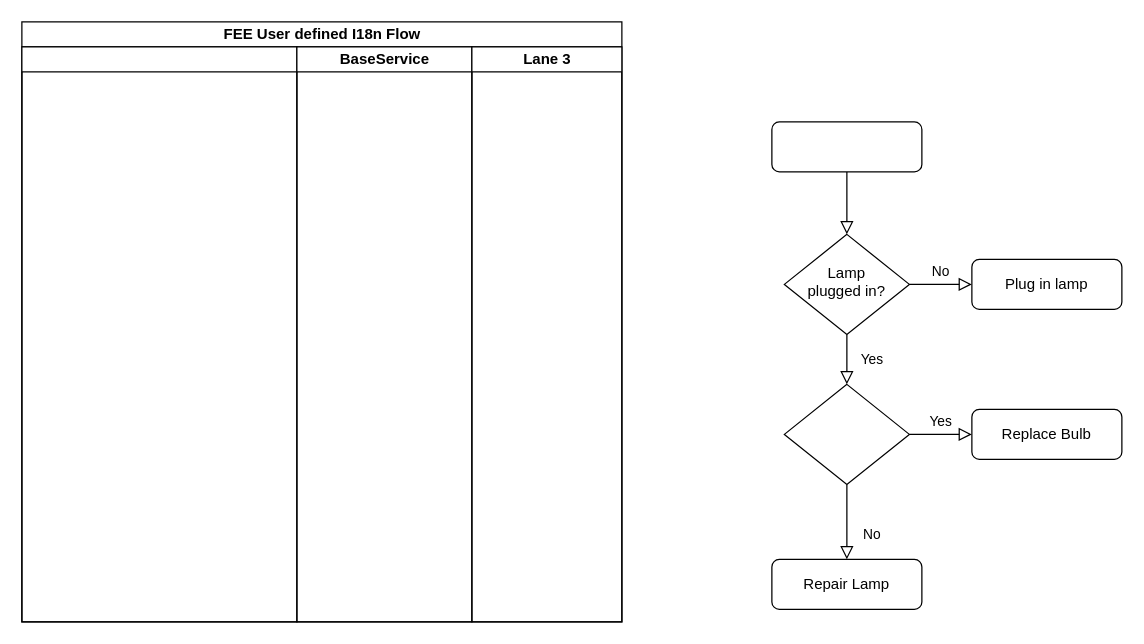
This 1144x644 diagram has some shape labels left out. The shapes that lost their labels are listed below. From the top down, each one's centre as x and y in pixels, then its label:
the point at 846,146: Start
the point at 159,334: scheme-fields-supported-i18n.json
the point at 846,433: Bulb burned out?
